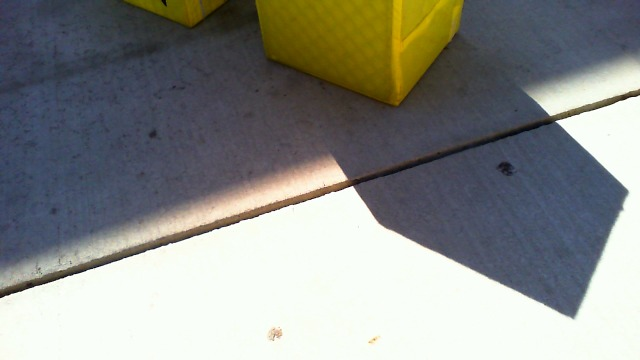cube: (254, 1, 467, 110), (117, 1, 234, 30)
